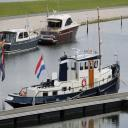tugboat: (5, 48, 122, 113)
